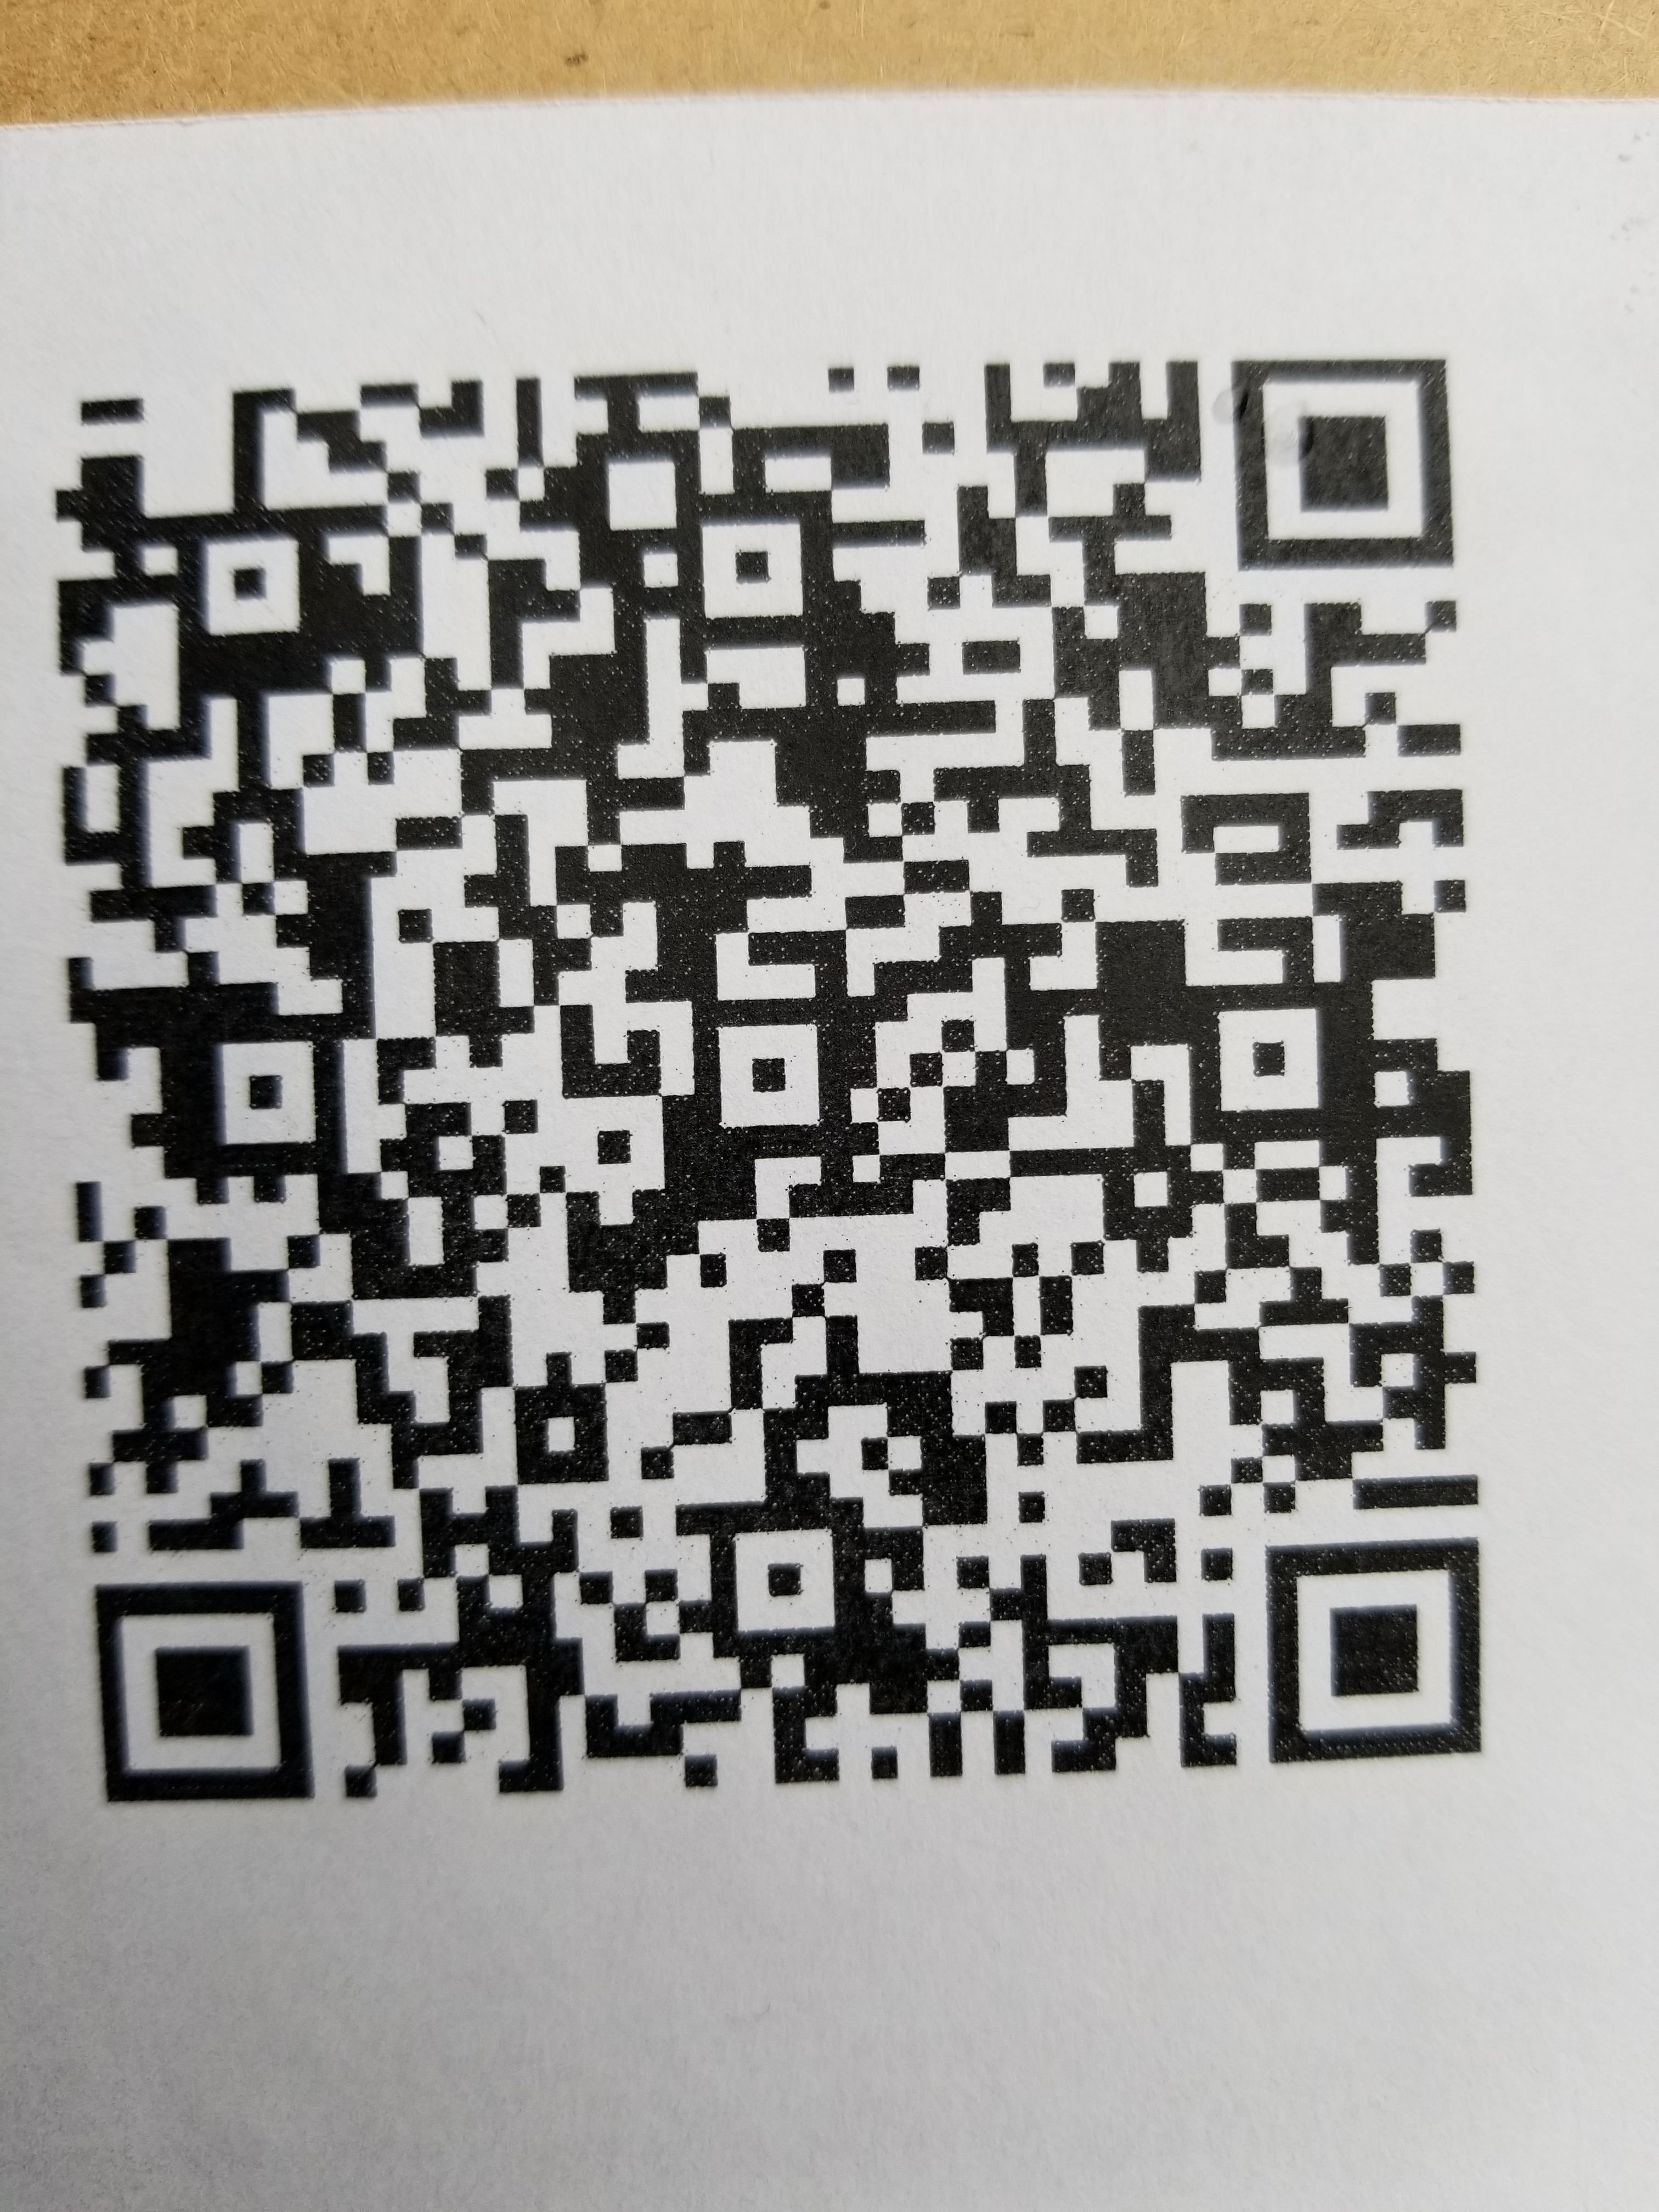QR_CODE: (24, 280, 1567, 1885)
